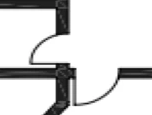door: (68, 62, 123, 108), (24, 26, 74, 67)
